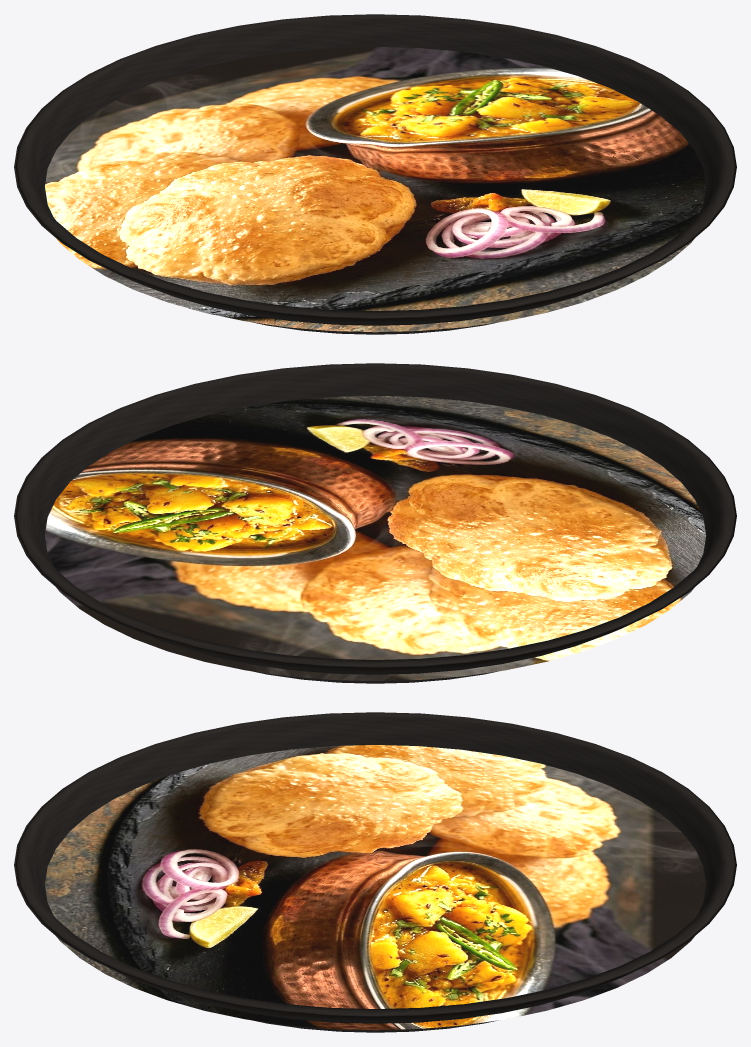
Rendered from aloo-puri.glb.
3 renders of one model, top to bottom at view 1: azimuth 30°, elevation 25°; view 2: azimuth 150°, elevation 25°; view 3: azimuth 270°, elevation 25°, orthographic.
Parts seen in each view (by area): view 1: FoodMound, StonewareVessel; view 2: FoodMound, StonewareVessel; view 3: FoodMound, StonewareVessel.
Boxes of the visible parts, <box> form: FoodMound: <box>45,47,705,332</box>; StonewareVessel: <box>14,14,736,334</box>; FoodMound: <box>45,395,705,681</box>; StonewareVessel: <box>14,363,736,683</box>; FoodMound: <box>45,745,705,1030</box>; StonewareVessel: <box>14,712,736,1032</box>.
Bounding box in the file's own units: 0.26 × 0.0225 × 0.26.
Materials: 2 (2 with a texture image).
